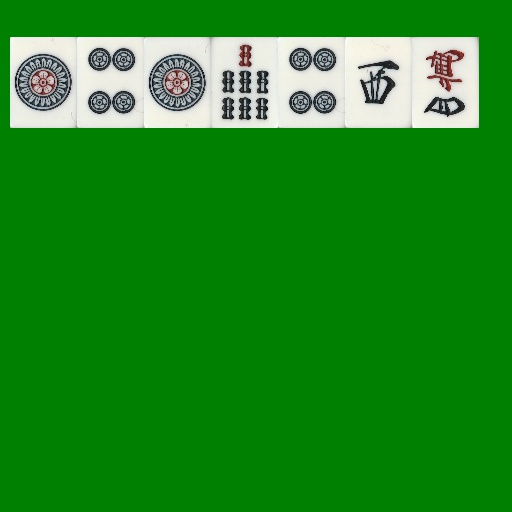1p: (10, 37, 77, 128), (144, 37, 211, 128)
4m: (412, 37, 479, 128)
4p: (77, 37, 144, 128), (278, 37, 345, 128)
7s: (211, 37, 278, 128)
west: (345, 37, 412, 128)
